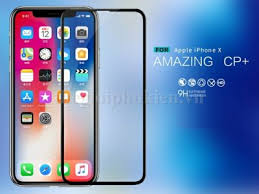iphone: (9, 2, 101, 185)
iphone10: (8, 4, 100, 187)
